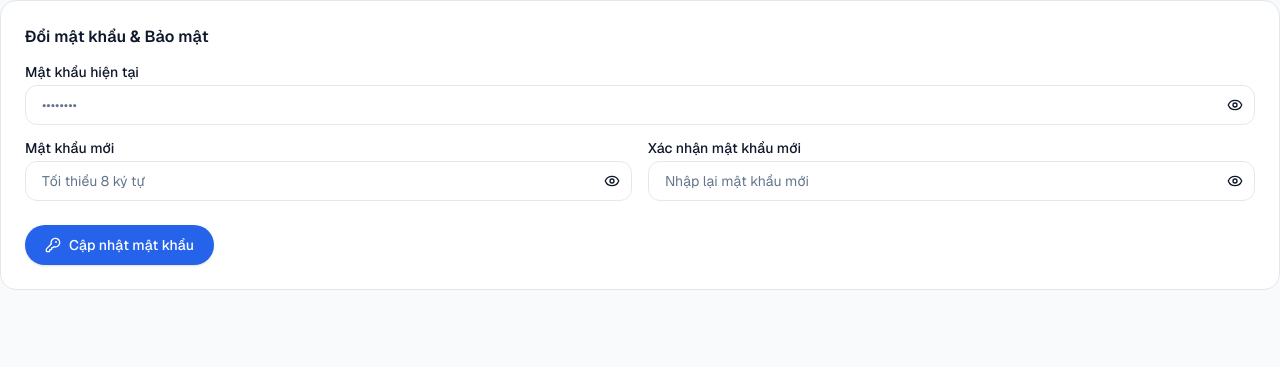
Test: ChangePasswordGroup › shows validation error when current password is empty
Step 1. Click the button "Cập nhật mật khẩu" → click(120, 245), box [25, 225, 214, 265]
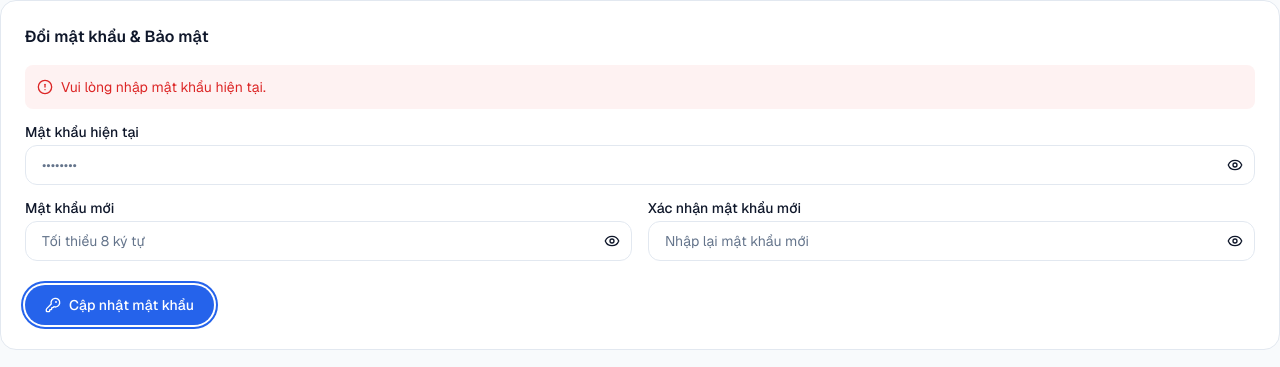
Expected: the text "Vui lòng nhập mật khẩu hiện tại." is shown, [61, 77, 266, 97]
